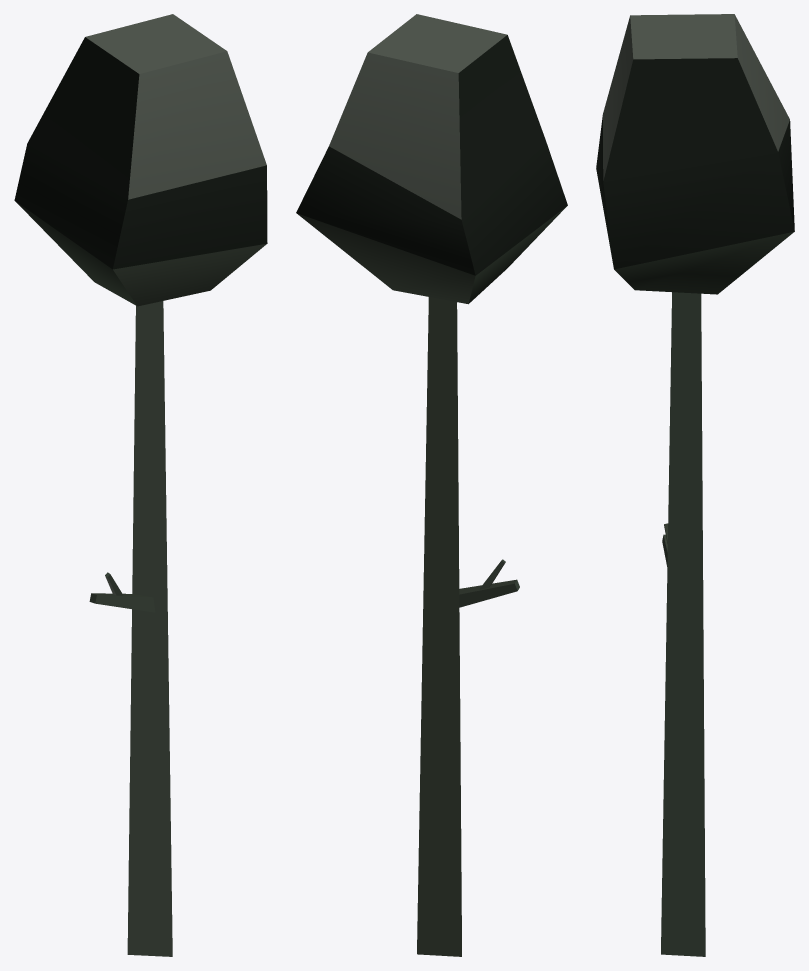
Rendered from SF_Env_Tree_Snow_Tall_02.glb.
The picture shows the model from 3 angles, left to right: view 1: azimuth 30°, elevation 25°; view 2: azimuth 150°, elevation 25°; view 3: azimuth 270°, elevation 25°; orthographic projection.
Parts seen in each view (by area): view 1: SF_Env_Tree_Snow_Tall_02; view 2: SF_Env_Tree_Snow_Tall_02; view 3: SF_Env_Tree_Snow_Tall_02.
Boxes of the visible parts, bbox=[...] form: SF_Env_Tree_Snow_Tall_02: bbox=[14, 14, 267, 956]; SF_Env_Tree_Snow_Tall_02: bbox=[296, 14, 567, 956]; SF_Env_Tree_Snow_Tall_02: bbox=[596, 14, 794, 956].
Bounding box in the file's own units: 0.0202 × 0.0987 × 0.0194.
1 material, 1 textured.
